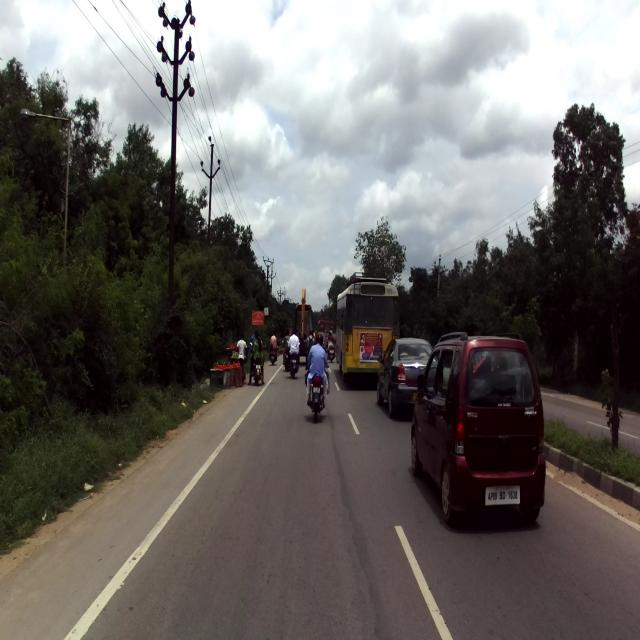Car_Maruti-Suzuki: (410, 328, 546, 528)
Car_Toyota: (376, 338, 434, 419)
bus: (334, 274, 400, 386)
